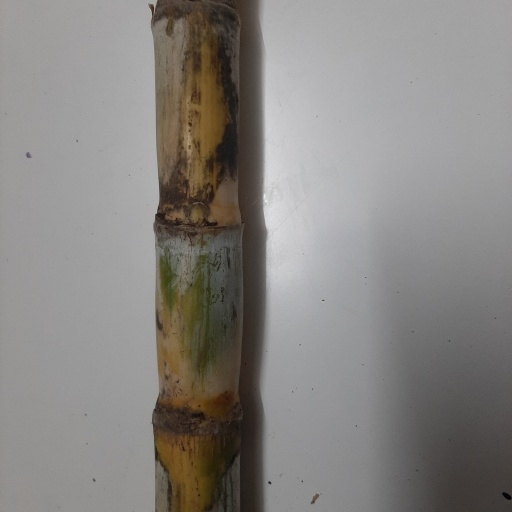Bud: (187, 201, 209, 225)
